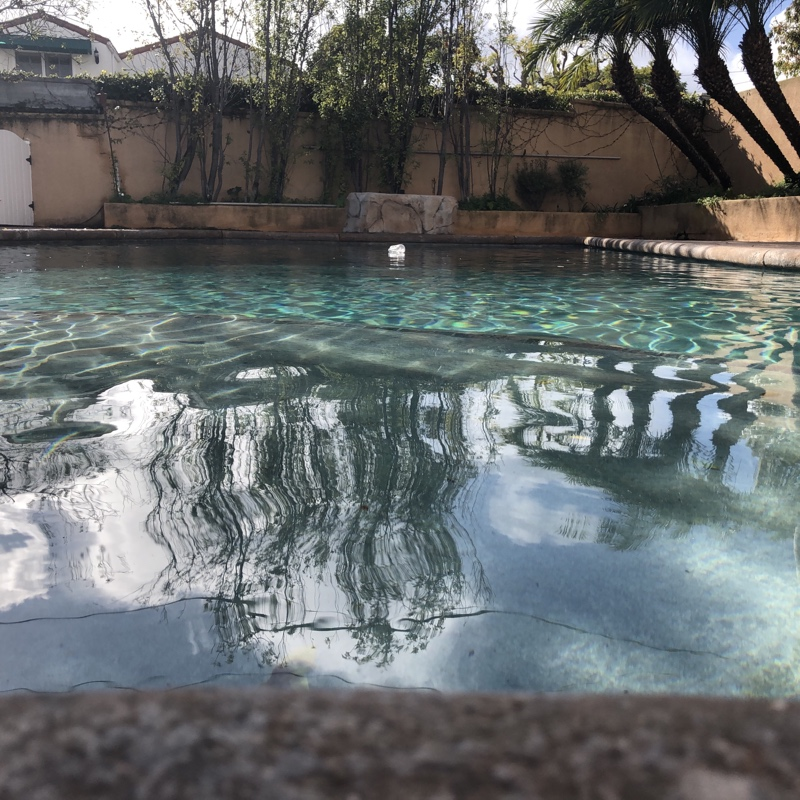Plastic Bottle: (388, 244, 407, 256)
